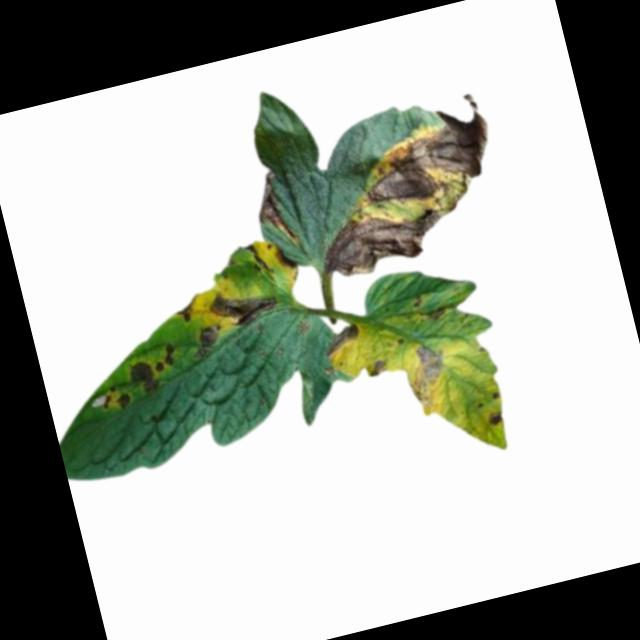Early_blight: (335, 90, 501, 211), (312, 186, 469, 285), (205, 276, 282, 333), (249, 168, 296, 248), (399, 338, 452, 406), (318, 320, 363, 358), (123, 356, 161, 400), (188, 319, 227, 358), (168, 291, 202, 327), (96, 381, 131, 414), (270, 241, 300, 275), (150, 341, 179, 374), (480, 406, 506, 432), (421, 302, 448, 326), (364, 356, 388, 376)
